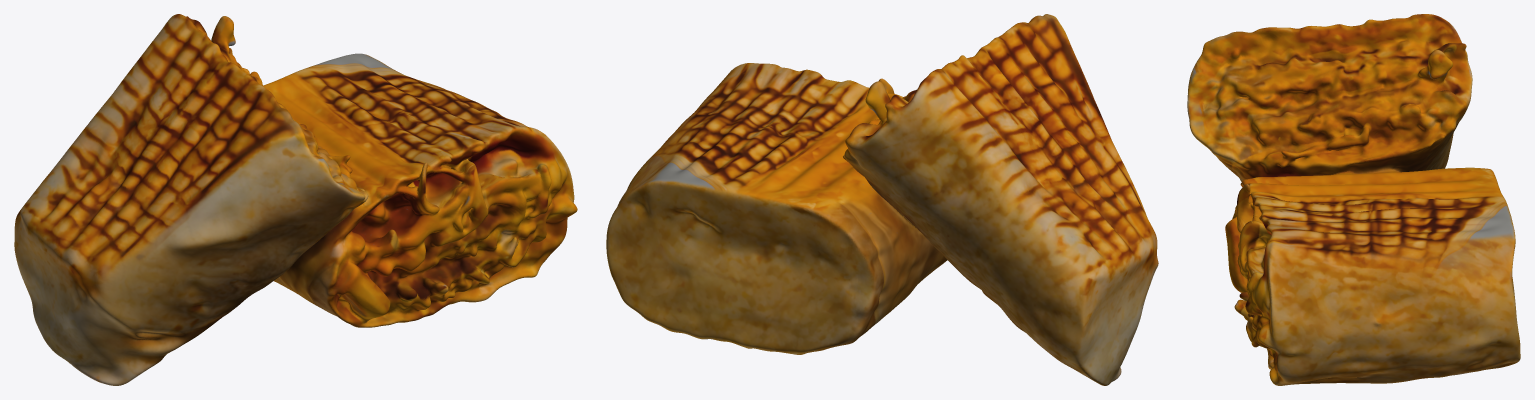
File: tacos.glb
3 renders of one model, left to right at view 1: azimuth 30°, elevation 25°; view 2: azimuth 150°, elevation 25°; view 3: azimuth 270°, elevation 25°, orthographic. The views are drawn at different scales.
Parts seen in each view (by area): view 1: tripo_node_a3c2cf14-aab4-413b-a3d5-bb08736720b8; view 2: tripo_node_a3c2cf14-aab4-413b-a3d5-bb08736720b8; view 3: tripo_node_a3c2cf14-aab4-413b-a3d5-bb08736720b8.
Boxes of the visible parts, x1,y1,x2,y2 form: tripo_node_a3c2cf14-aab4-413b-a3d5-bb08736720b8: [14, 14, 577, 385]; tripo_node_a3c2cf14-aab4-413b-a3d5-bb08736720b8: [606, 14, 1158, 385]; tripo_node_a3c2cf14-aab4-413b-a3d5-bb08736720b8: [1187, 14, 1520, 385].
Bounding box in the file's own units: 1 × 0.6026 × 0.654.
Materials: 1 (1 with a texture image).
